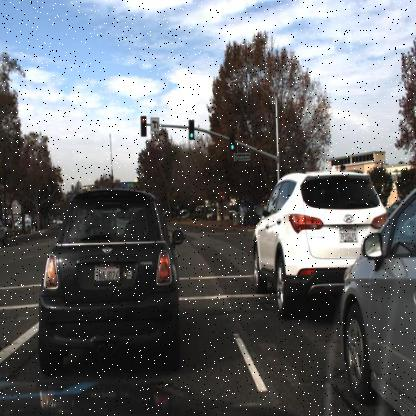car: (41, 181, 187, 382), (249, 164, 389, 321), (338, 172, 415, 414), (0, 204, 14, 258), (12, 213, 35, 238)
trafficLight-Green: (226, 130, 238, 161), (187, 116, 197, 146), (228, 129, 237, 152)
trafficLight-RedLeft: (138, 115, 148, 143)
